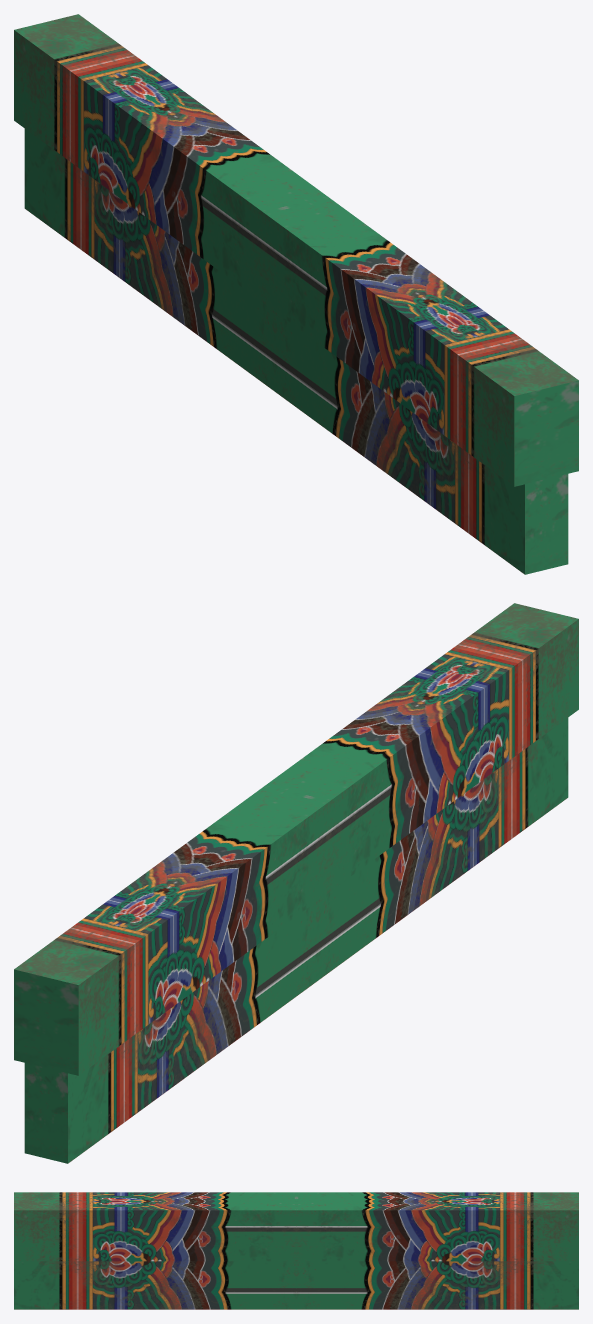
The model's file is SM_Lintel01a.fbx.
The picture shows the model from 3 angles, top to bottom: view 1: azimuth 30°, elevation 25°; view 2: azimuth 150°, elevation 25°; view 3: azimuth 270°, elevation 25°; orthographic projection. The views are drawn at different scales.
Visible parts, largest first — view 1: SM_Lintel01a; view 2: SM_Lintel01a; view 3: SM_Lintel01a.
Part boxes in pixels (box(x1,y1,x2,y2)): SM_Lintel01a: box(14, 14, 578, 574); SM_Lintel01a: box(14, 603, 578, 1163); SM_Lintel01a: box(14, 1192, 578, 1309).
Size of the model in its own units: 22.35 by 300 by 59.95.
1 material, 1 textured.
